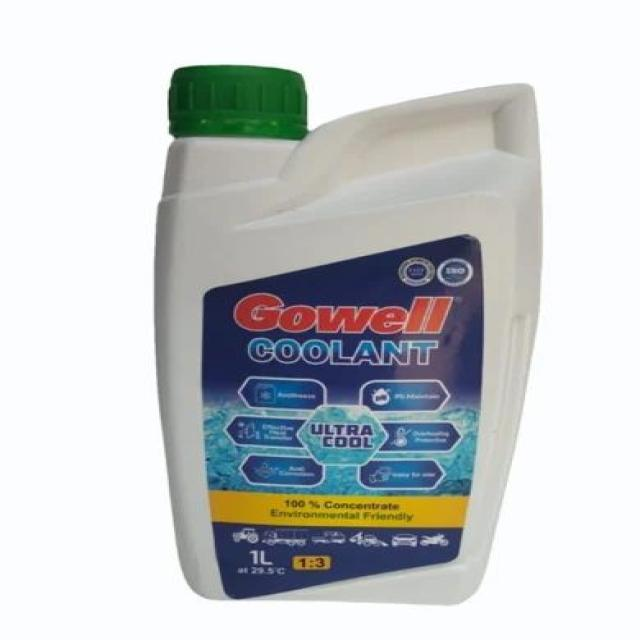coolant: (156, 67, 570, 613)
